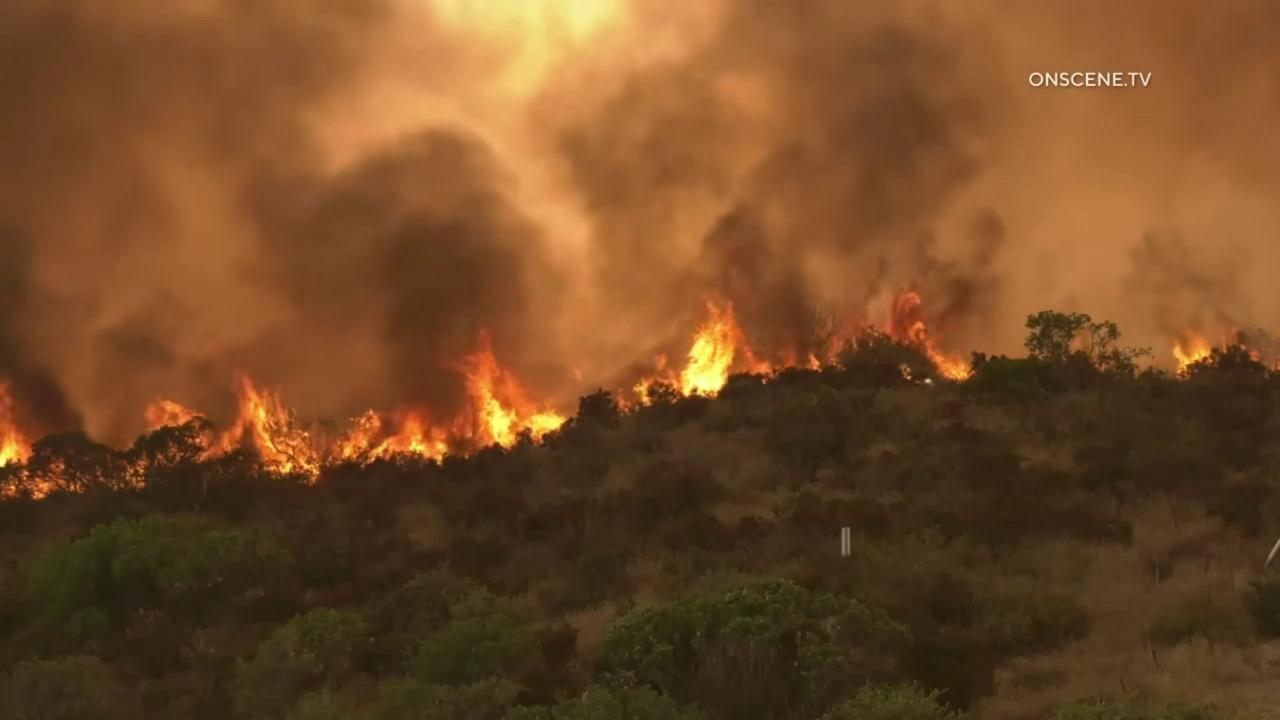fire: (95, 326, 570, 493), (617, 301, 798, 416), (828, 291, 977, 385), (0, 382, 88, 501), (1171, 329, 1215, 383), (1221, 328, 1260, 362), (806, 353, 823, 373), (1271, 360, 1280, 373)
smoke: (0, 0, 1280, 436)
